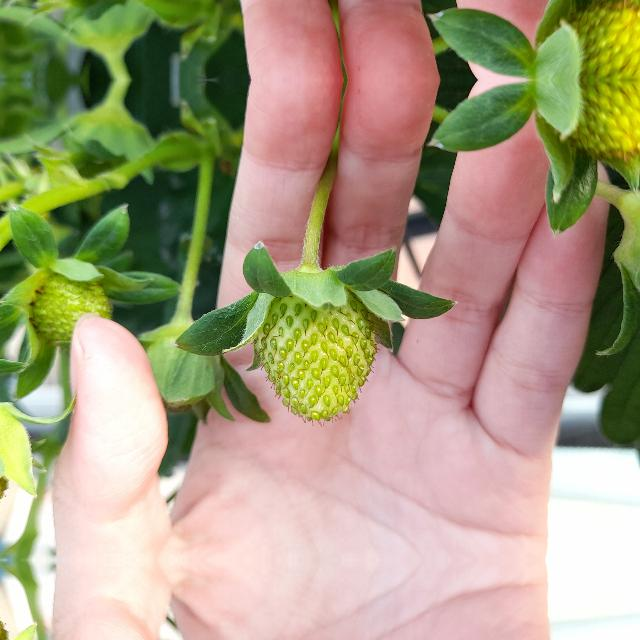Health_25: (255, 282, 377, 421)
